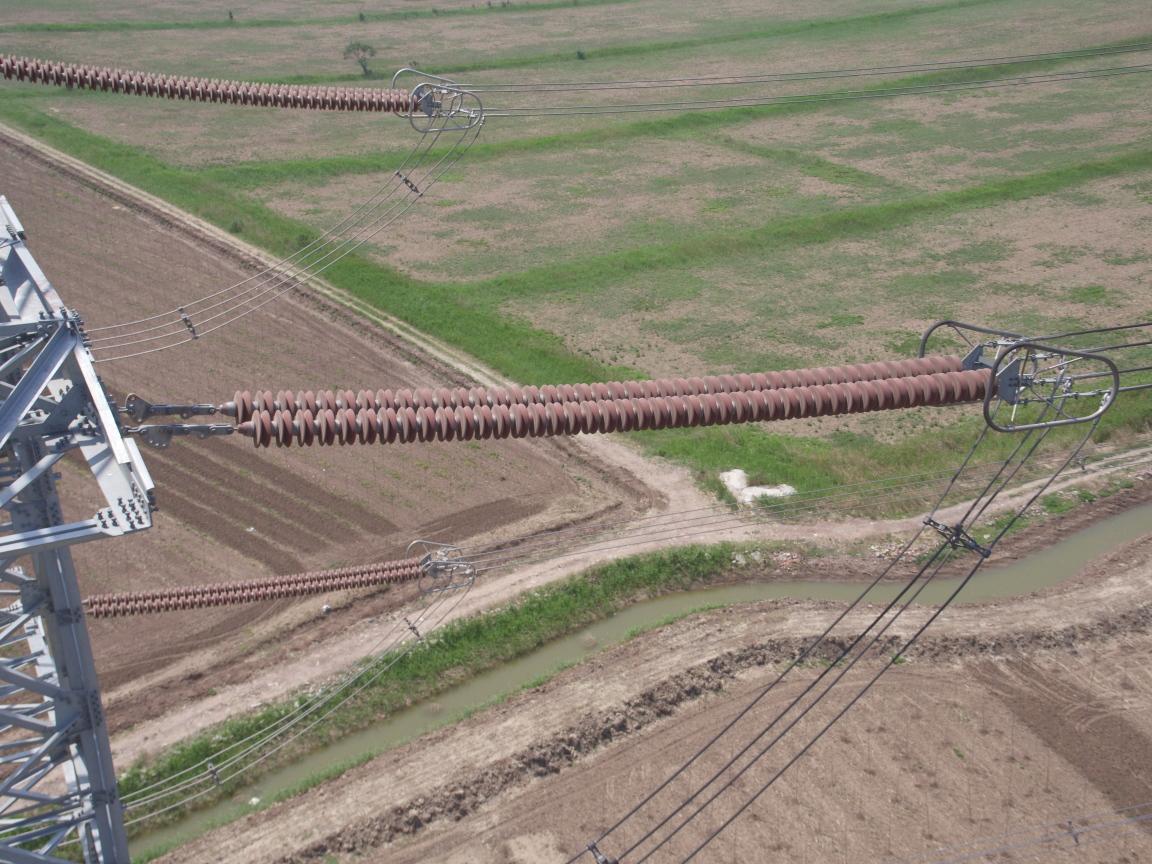insulator: (194, 345, 1017, 452), (1, 49, 429, 118), (79, 555, 432, 620)
